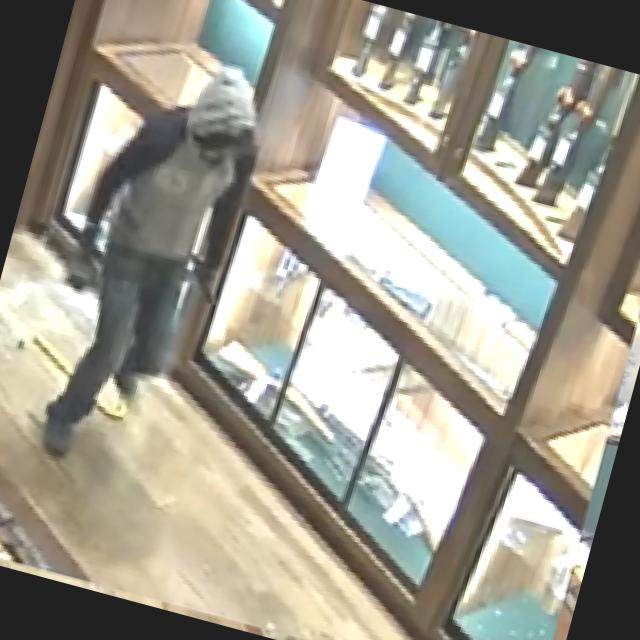person: (20, 38, 281, 484)
